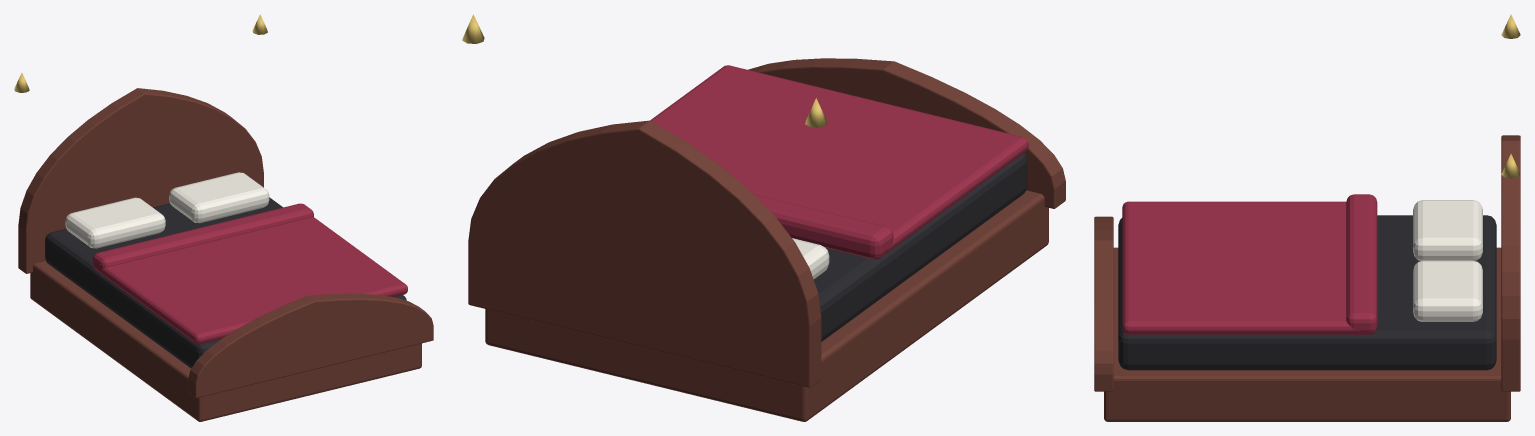
Rendered from bed_sleigh_gothic.glb.
3 views of the same model, side by side, from view 1: azimuth 30°, elevation 25°; view 2: azimuth 150°, elevation 25°; view 3: azimuth 270°, elevation 25° (orthographic). The views are drawn at different scales.
Visible parts, largest first — view 1: GD_bed_sleigh_gothic__m0, GD_bed_sleigh_gothic__m2, GD_bed_sleigh_gothic__m1, GD_bed_sleigh_gothic__m3, GD_bed_sleigh_gothic__m4; view 2: GD_bed_sleigh_gothic__m0, GD_bed_sleigh_gothic__m2, GD_bed_sleigh_gothic__m1, GD_bed_sleigh_gothic__m3, GD_bed_sleigh_gothic__m4; view 3: GD_bed_sleigh_gothic__m2, GD_bed_sleigh_gothic__m0, GD_bed_sleigh_gothic__m1, GD_bed_sleigh_gothic__m3, GD_bed_sleigh_gothic__m4.
Boxes of the visible parts, x1,y1,x2,y2 form: GD_bed_sleigh_gothic__m0: [18, 88, 433, 421]; GD_bed_sleigh_gothic__m2: [92, 203, 407, 344]; GD_bed_sleigh_gothic__m1: [45, 197, 406, 368]; GD_bed_sleigh_gothic__m3: [65, 172, 269, 248]; GD_bed_sleigh_gothic__m4: [14, 14, 267, 92]; GD_bed_sleigh_gothic__m0: [468, 58, 1065, 421]; GD_bed_sleigh_gothic__m2: [650, 65, 1028, 259]; GD_bed_sleigh_gothic__m1: [814, 153, 1027, 341]; GD_bed_sleigh_gothic__m3: [792, 238, 829, 279]; GD_bed_sleigh_gothic__m4: [462, 14, 827, 127]; GD_bed_sleigh_gothic__m2: [1122, 194, 1377, 334]; GD_bed_sleigh_gothic__m0: [1094, 135, 1520, 421]; GD_bed_sleigh_gothic__m1: [1118, 215, 1496, 370]; GD_bed_sleigh_gothic__m3: [1413, 200, 1482, 321]; GD_bed_sleigh_gothic__m4: [1501, 14, 1520, 178].
Size of the model in its own units: 1.8 by 1.56 by 2.2.
